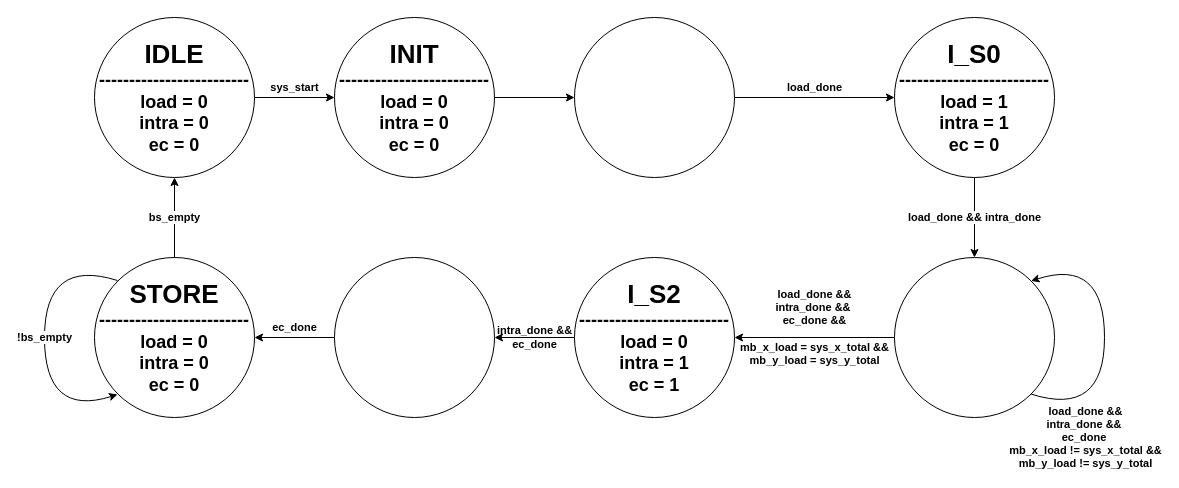
The diagram is 1179 pixels wide and 488 high, and some of its shapes have lost their labels. Each missing label, with the centre of its shape:
I_S1 ------------------------- load = 1 intra = 1 ec = 1: the point at 974,337
I_S3 ------------------------- load = 0 intra = 0 ec = 1: the point at 414,337
LOAD ------------------------- load = 1 intra = 0 ec = 0: the point at 654,97
